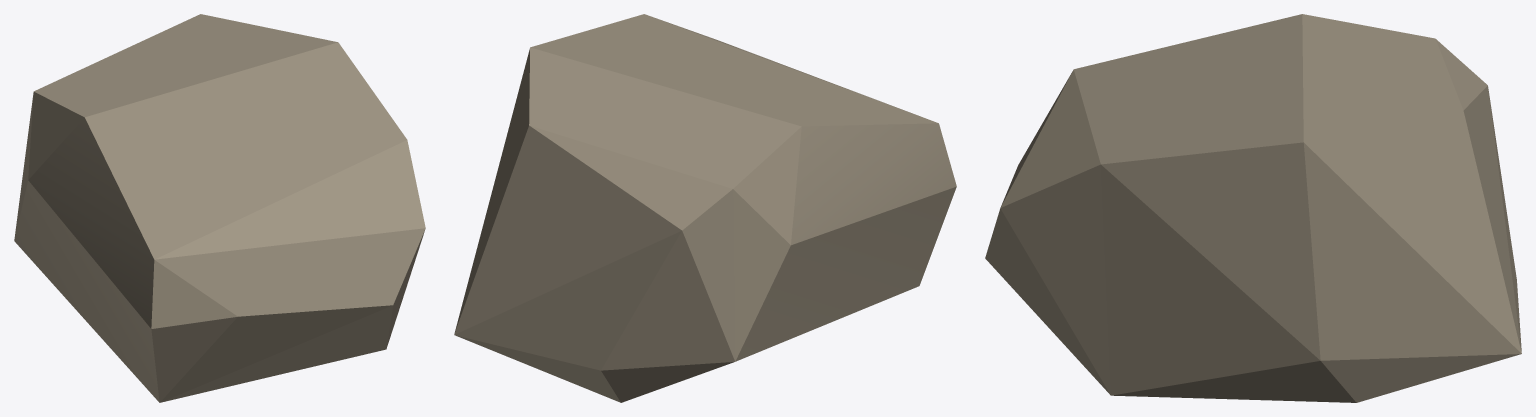
The model's file is SM_Rock_Small_02.glb.
3 views of the same model, side by side, from view 1: azimuth 30°, elevation 25°; view 2: azimuth 150°, elevation 25°; view 3: azimuth 270°, elevation 25° (orthographic). The views are drawn at different scales.
Visible parts, largest first — view 1: SM_Rock_Small_02; view 2: SM_Rock_Small_02; view 3: SM_Rock_Small_02.
Boxes of the visible parts, x1,y1,x2,y2 form: SM_Rock_Small_02: [14, 14, 425, 402]; SM_Rock_Small_02: [454, 14, 956, 402]; SM_Rock_Small_02: [985, 14, 1521, 402].
Size of the model in its own units: 0.392 by 0.2873 by 0.5112.
Materials: 1 (1 with a texture image).
